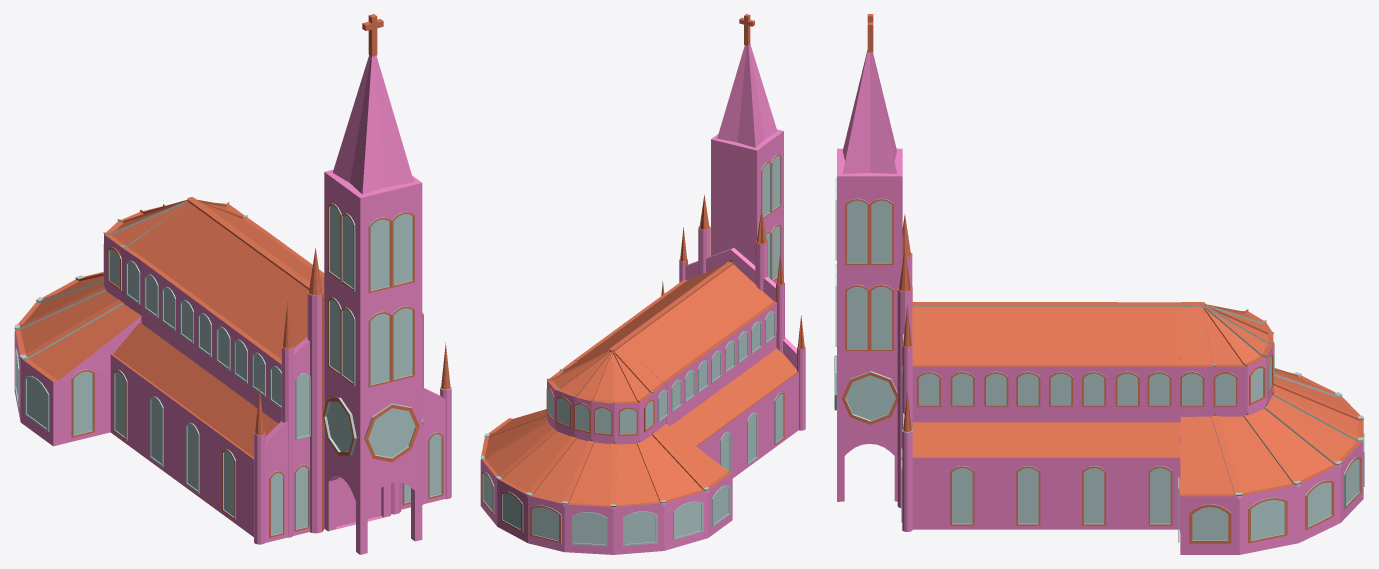
Rendered from Nha tho 1.fbx.
3 views of the same model, side by side, from view 1: azimuth 30°, elevation 25°; view 2: azimuth 150°, elevation 25°; view 3: azimuth 270°, elevation 25° (orthographic). The views are drawn at different scales.
Parts seen in each view (by area): view 1: Cylinder.001; view 2: Cylinder.001; view 3: Cylinder.001.
Boxes of the visible parts, x1=… form: Cylinder.001: x1=14, y1=14, x2=451, y2=554; Cylinder.001: x1=480, y1=14, x2=805, y2=554; Cylinder.001: x1=834, y1=14, x2=1364, y2=554.
Bounding box in the file's own units: 971 × 1591 × 1616.
